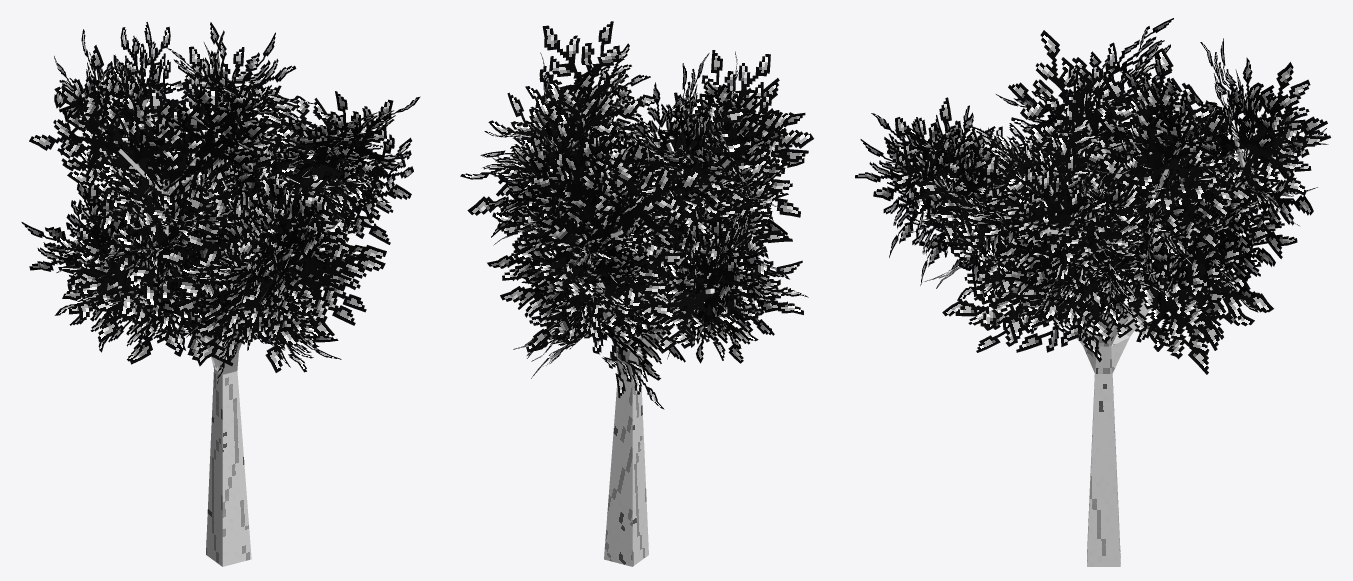
File: arbre_adult.glb
The picture shows the model from 3 angles, left to right: view 1: azimuth 30°, elevation 25°; view 2: azimuth 150°, elevation 25°; view 3: azimuth 270°, elevation 25°; orthographic projection.
Parts seen in each view (by area): view 1: Fulles (×66), Tronc; view 2: Fulles (×66), Tronc; view 3: Fulles (×72), Tronc.
Part boxes in pixels (<box>): Fulles (×66): <box>21,22,420,372</box>; Tronc: <box>98,96,374,566</box>; Fulles (×66): <box>460,21,813,409</box>; Tronc: <box>571,97,730,566</box>; Fulles (×72): <box>855,18,1330,374</box>; Tronc: <box>939,75,1246,566</box>.
Size of the model in its own units: 3.12 by 4.55 by 3.91.
2 materials, 2 textured.
